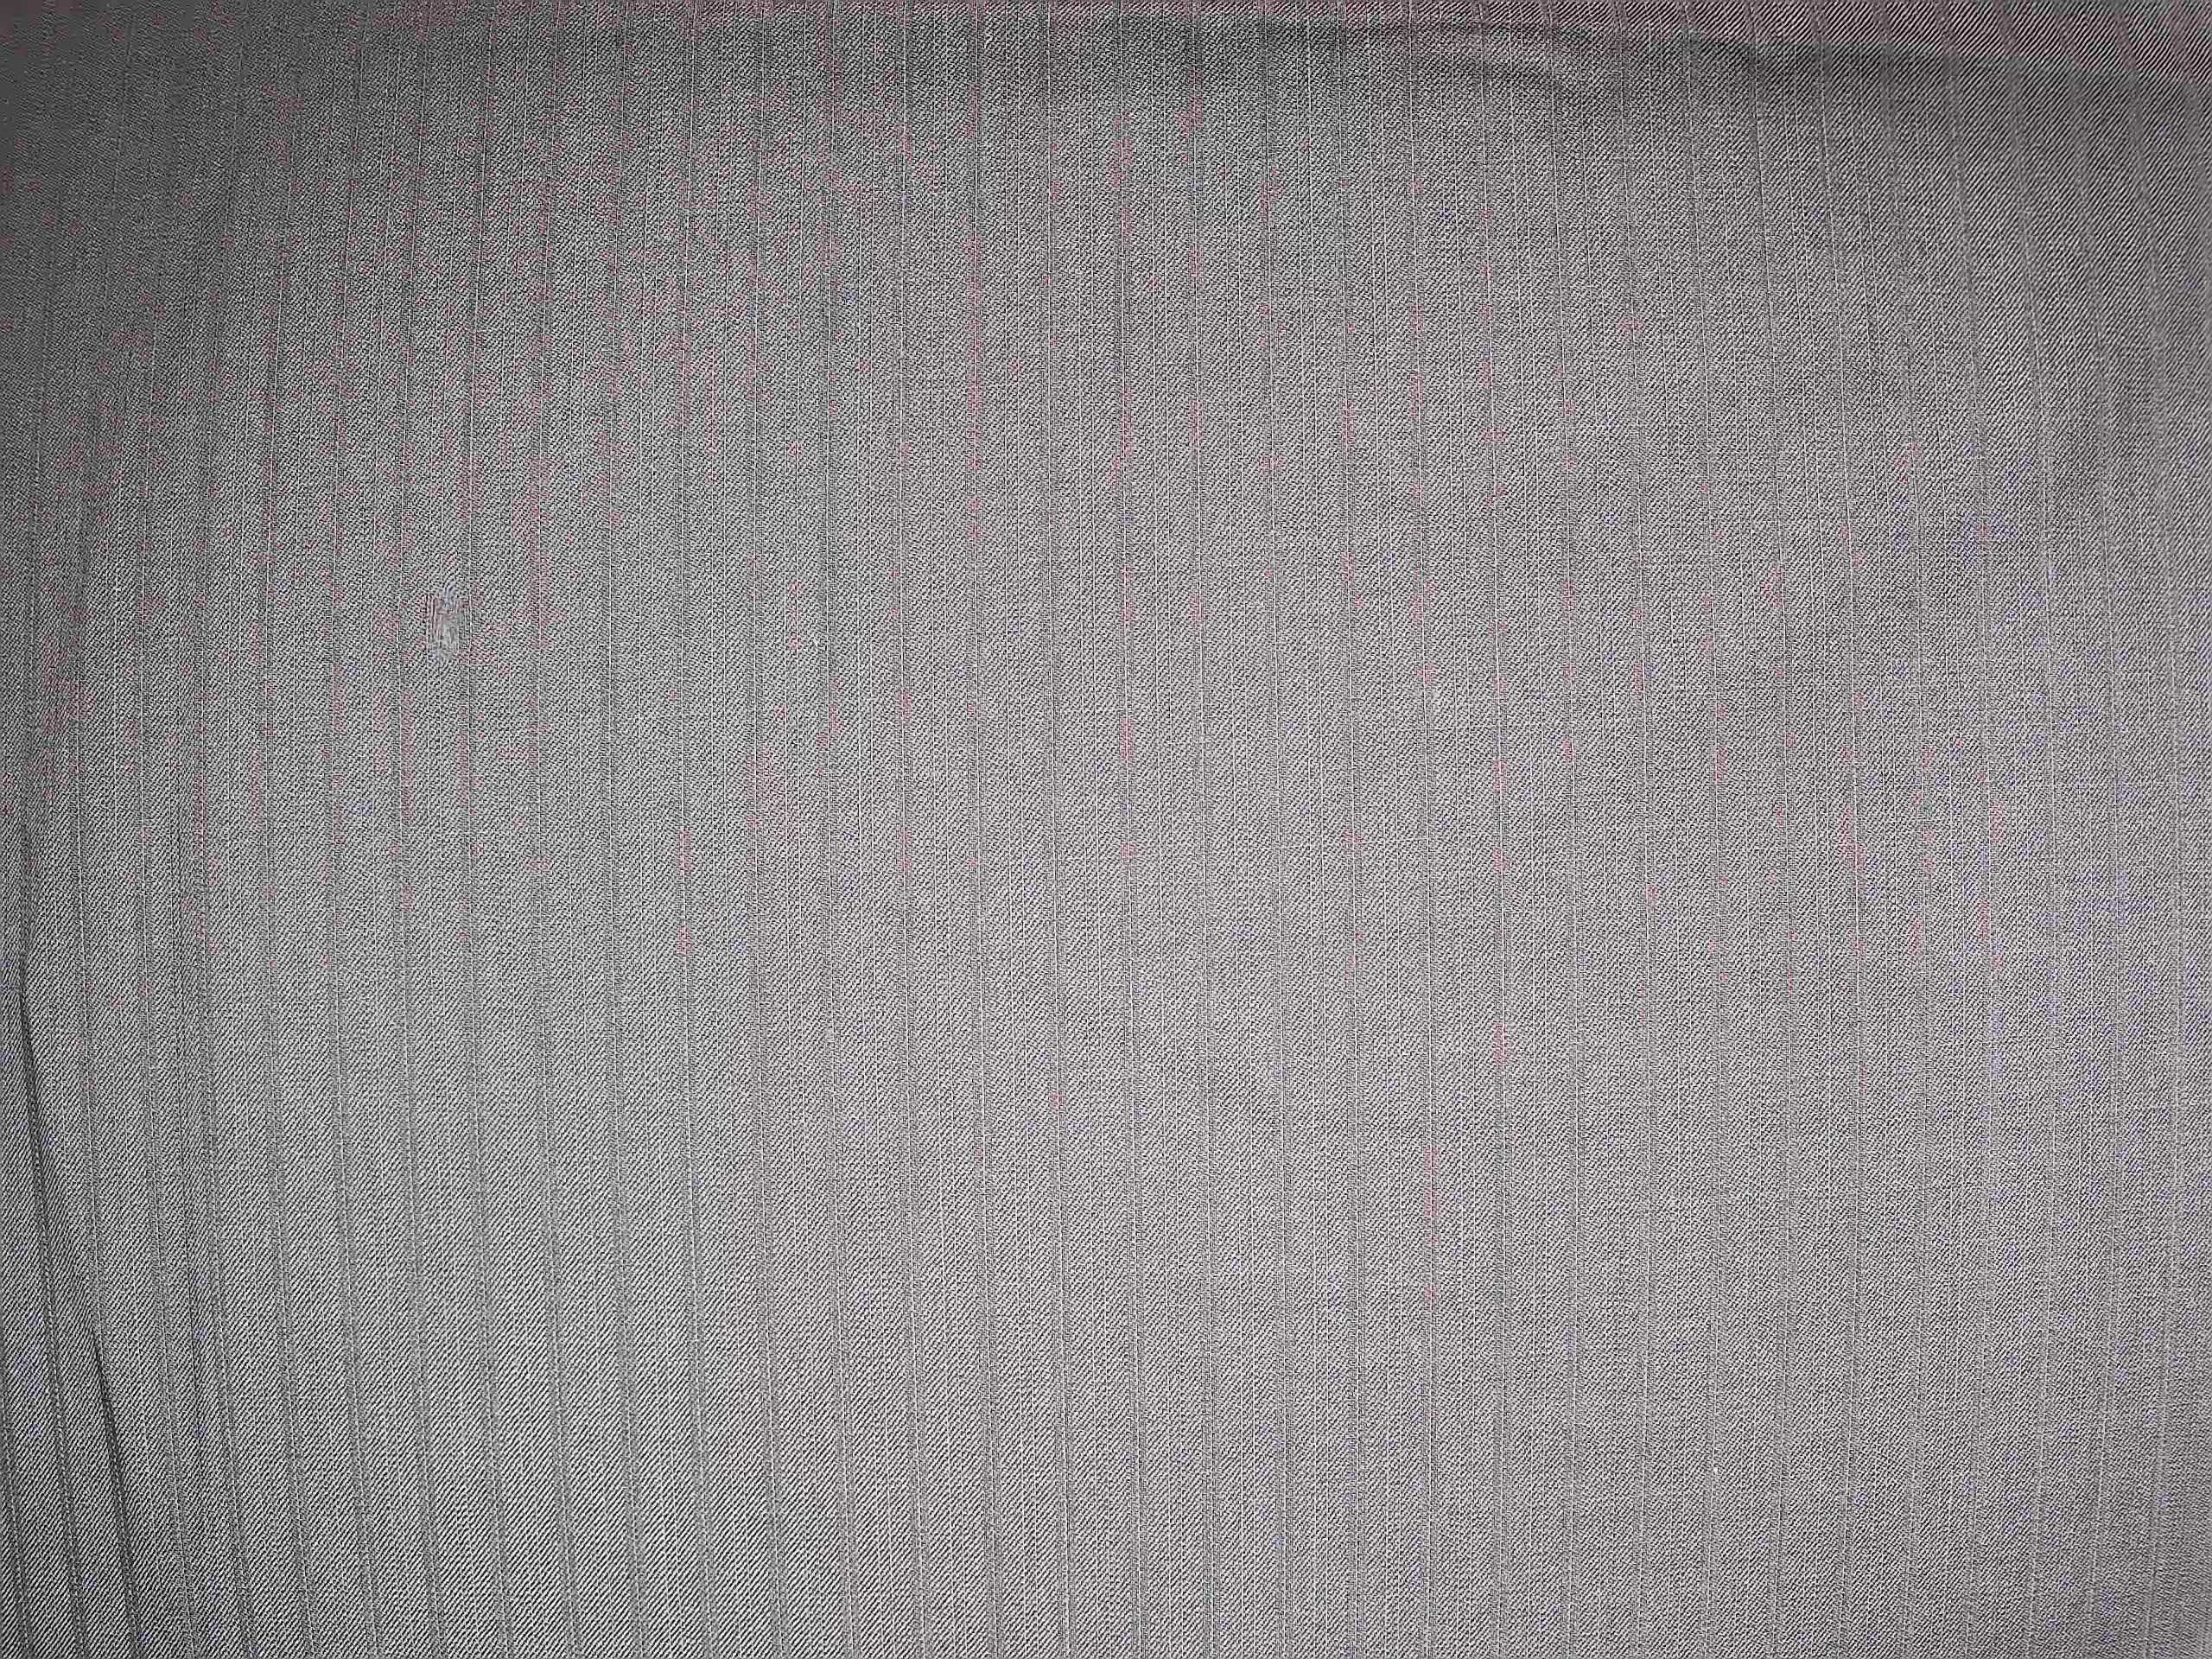brushed-hole: (411, 570, 484, 685)
